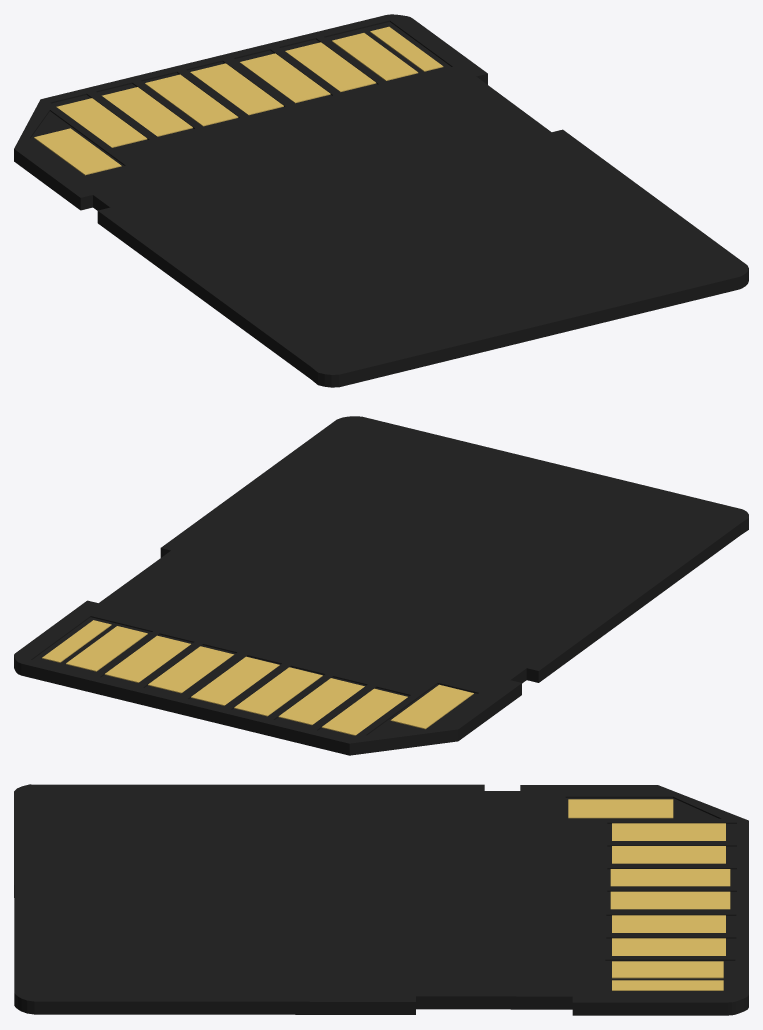
The model's file is card-transformed.glb.
The picture shows the model from 3 angles, top to bottom: view 1: azimuth 30°, elevation 25°; view 2: azimuth 150°, elevation 25°; view 3: azimuth 270°, elevation 25°; orthographic projection. The views are drawn at different scales.
Visible parts, largest first — view 1: Black-material, Yellow-material; view 2: Black-material, Yellow-material; view 3: Black-material, Yellow-material.
Boxes of the visible parts, x1=… form: Black-material: x1=14, y1=14, x2=748, y2=387; Yellow-material: x1=34, y1=26, x2=443, y2=175; Black-material: x1=14, y1=416, x2=748, y2=755; Yellow-material: x1=42, y1=620, x2=473, y2=735; Black-material: x1=14, y1=784, x2=748, y2=1015; Yellow-material: x1=568, y1=799, x2=730, y2=990.
Bounding box in the file's own units: 1.17 × 0.0326 × 1.67.
